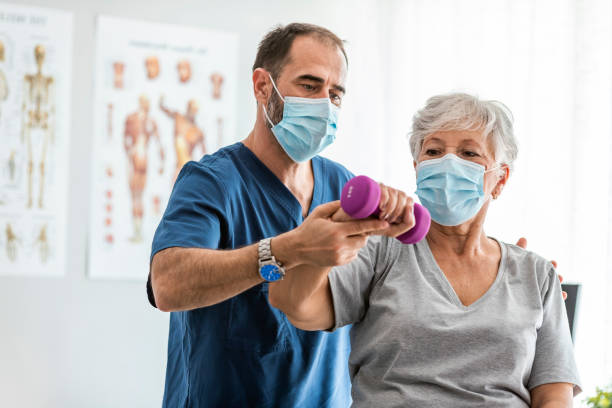with mask: (256, 17, 346, 168), (412, 115, 502, 229)
